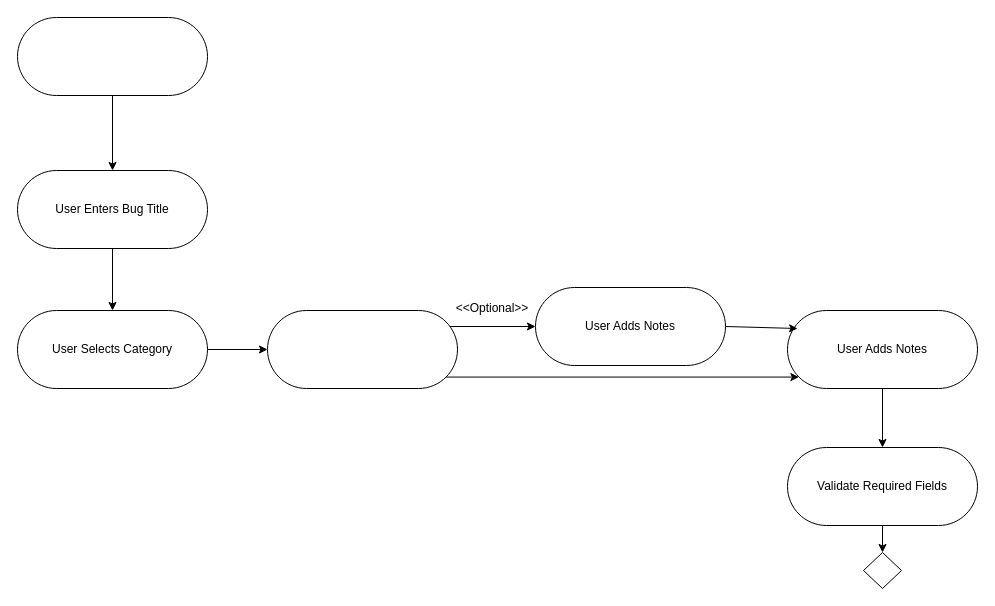
Image size: 995x606. Some labels were removed from this diagram. The centre of each missing label's shape, as x and y in pixels:
User on "Create Bug" UI: [112,56]
User Selects Priority Level: [362,349]
